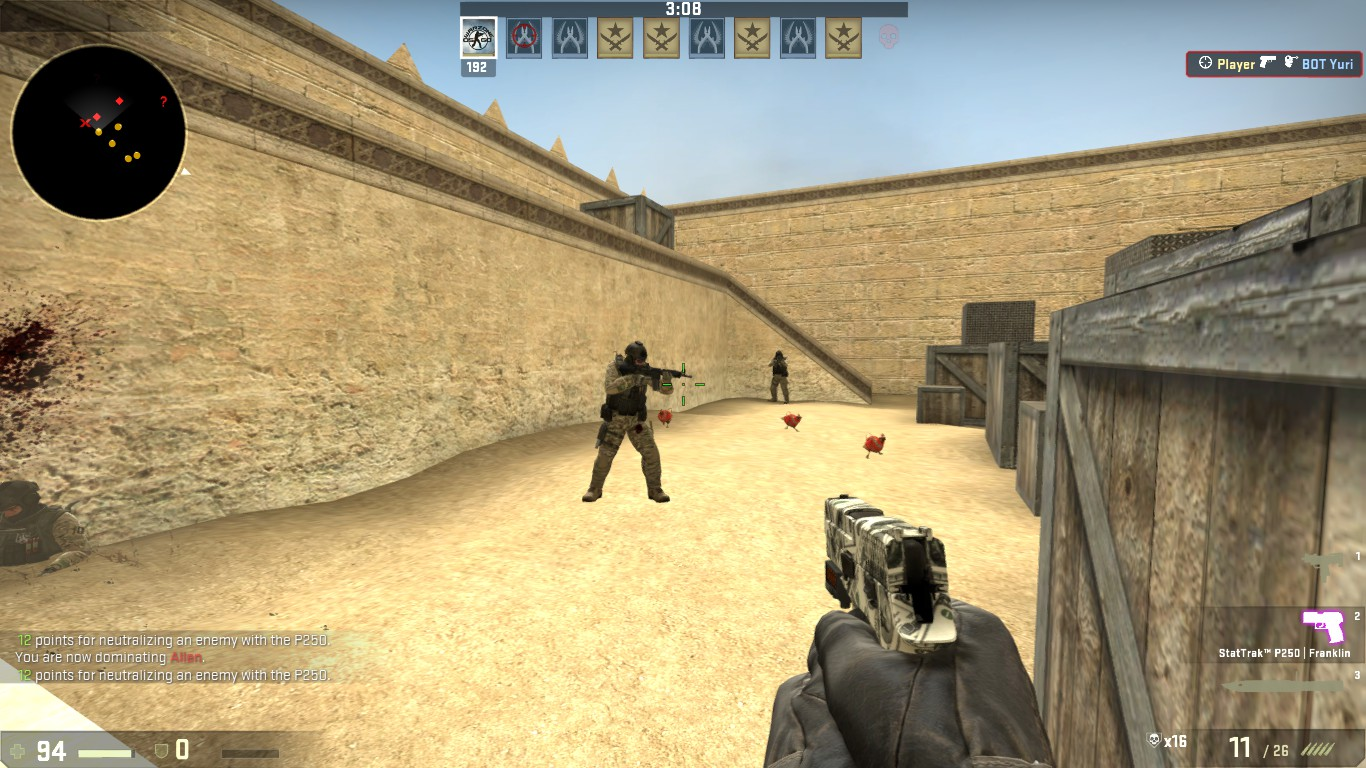c: (595, 337, 661, 503), (768, 349, 788, 404)
ch: (621, 338, 651, 370), (771, 349, 786, 363)
